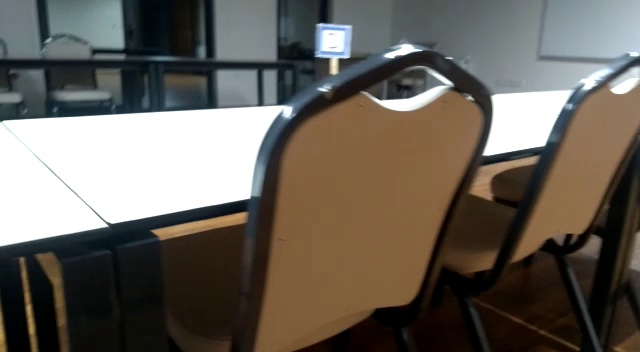durak: (312, 26, 352, 60)
